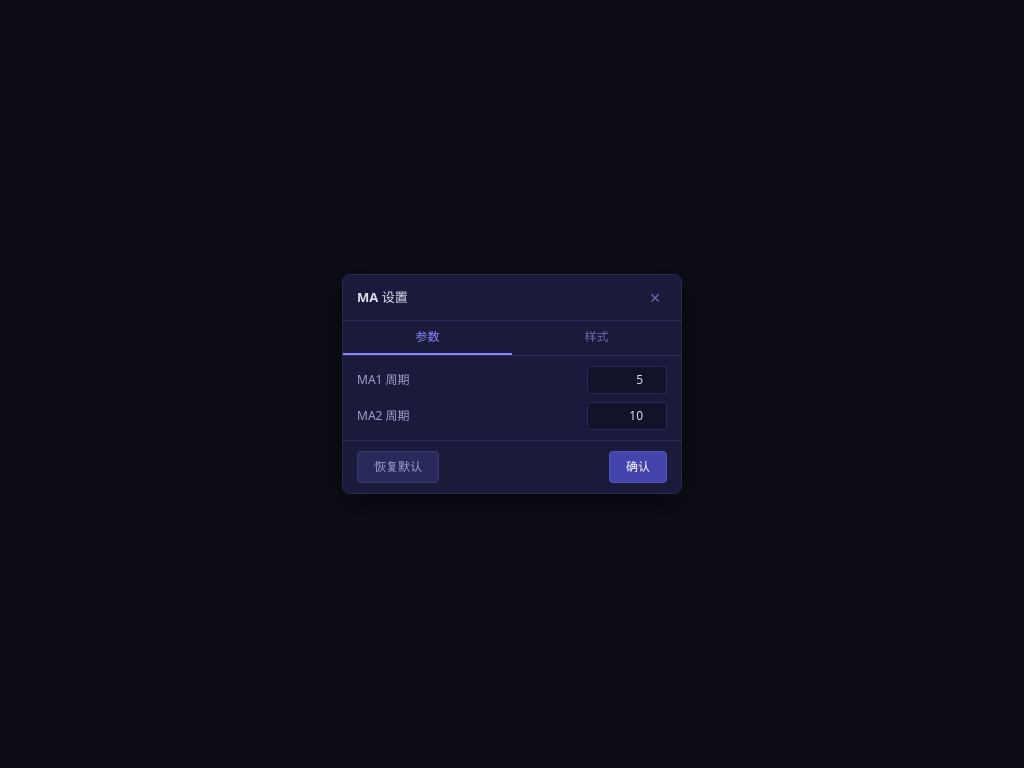
Test: ScriptSetting — T18 指标参数调节 › reset restores default values
# Change value
Replace the text in the number field in the row of "MA1 周期" with "99" at (627, 380), box x1=587 y1=366 x2=667 y2=394
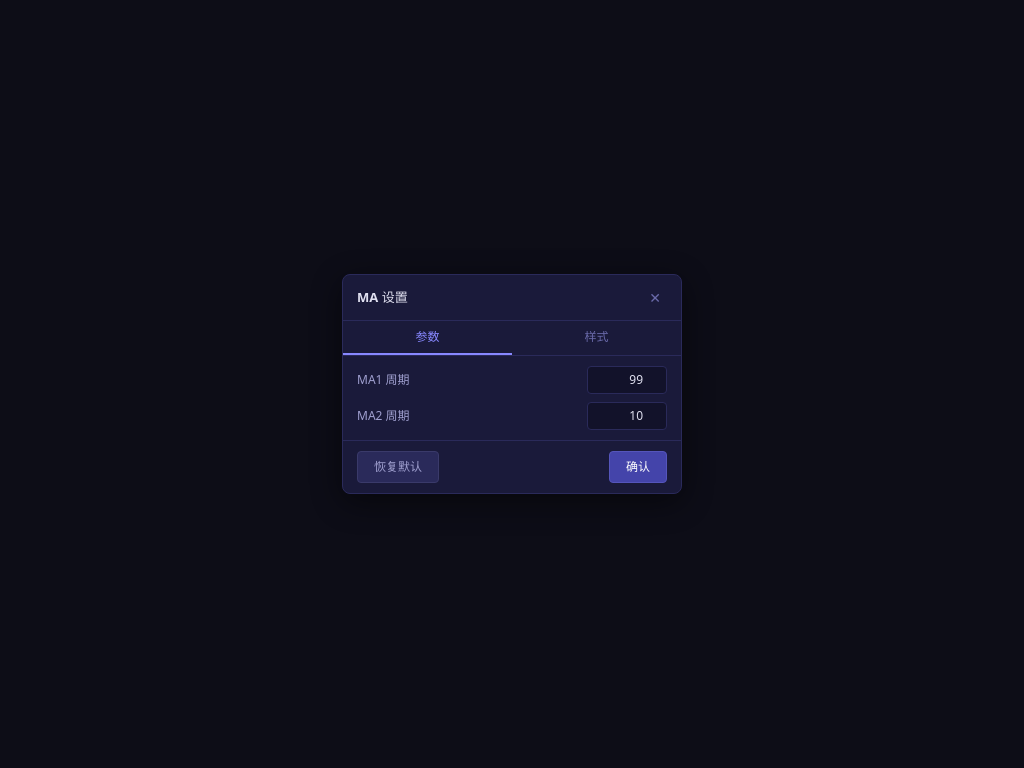
Click the button "恢复默认".
click(398, 467)  # box x1=357 y1=451 x2=439 y2=483
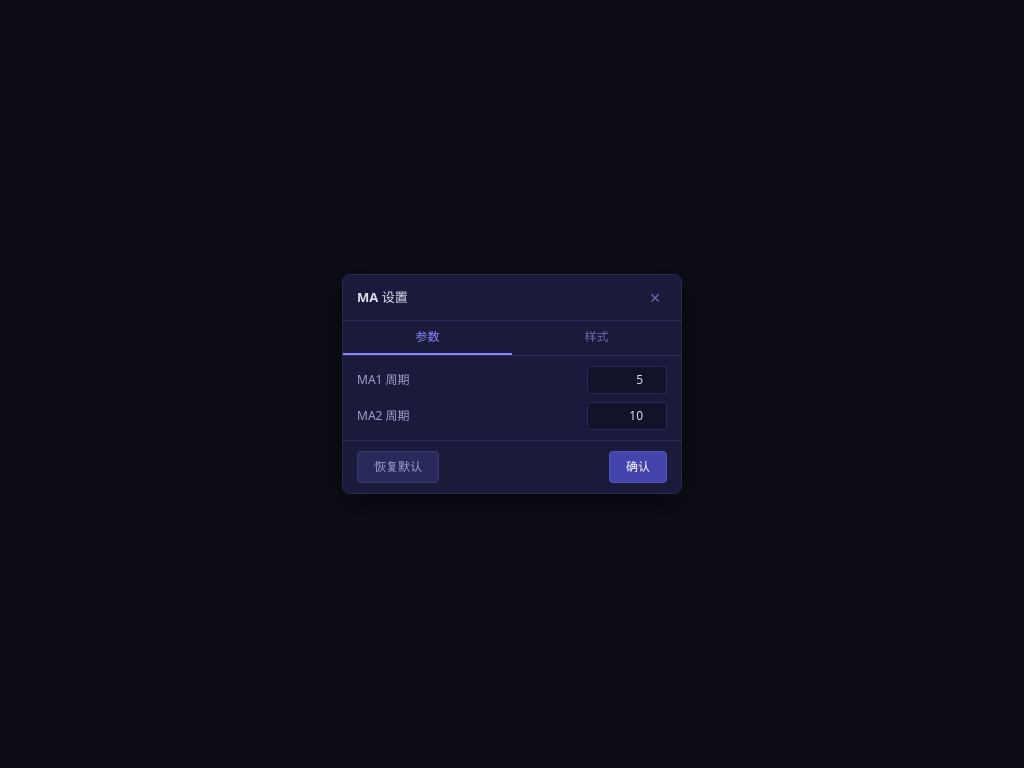
Now the number field in the row of "MA1 周期" holds "5", box x1=587 y1=366 x2=667 y2=394
